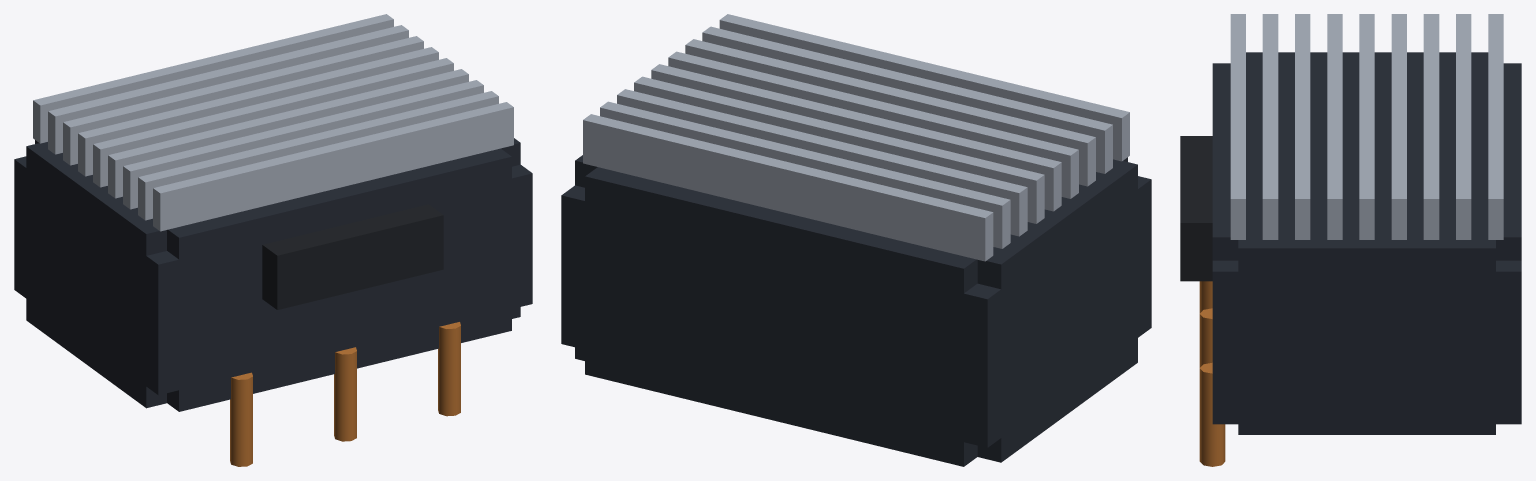
Rendered from kvi-ele-01.glb.
3 views of the same model, side by side, from view 1: azimuth 30°, elevation 25°; view 2: azimuth 150°, elevation 25°; view 3: azimuth 270°, elevation 25° (orthographic). The views are drawn at different scales.
Parts seen in each view (by area): view 1: Controlador 72V 24Q60A; view 2: Controlador 72V 24Q60A; view 3: Controlador 72V 24Q60A.
Boxes of the visible parts, <box> form: Controlador 72V 24Q60A: <box>14,14,532,466</box>; Controlador 72V 24Q60A: <box>561,14,1151,466</box>; Controlador 72V 24Q60A: <box>1180,14,1521,466</box>.
Size of the model in its own units: 1 by 0.7153 by 0.7361.
